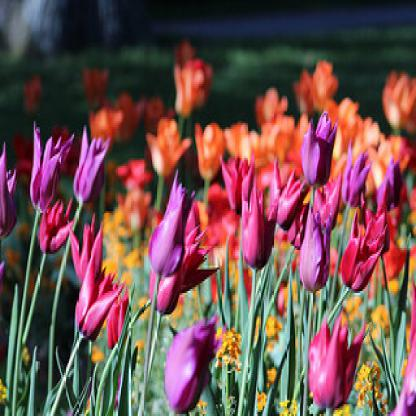TULIP: (36, 54, 403, 399)
